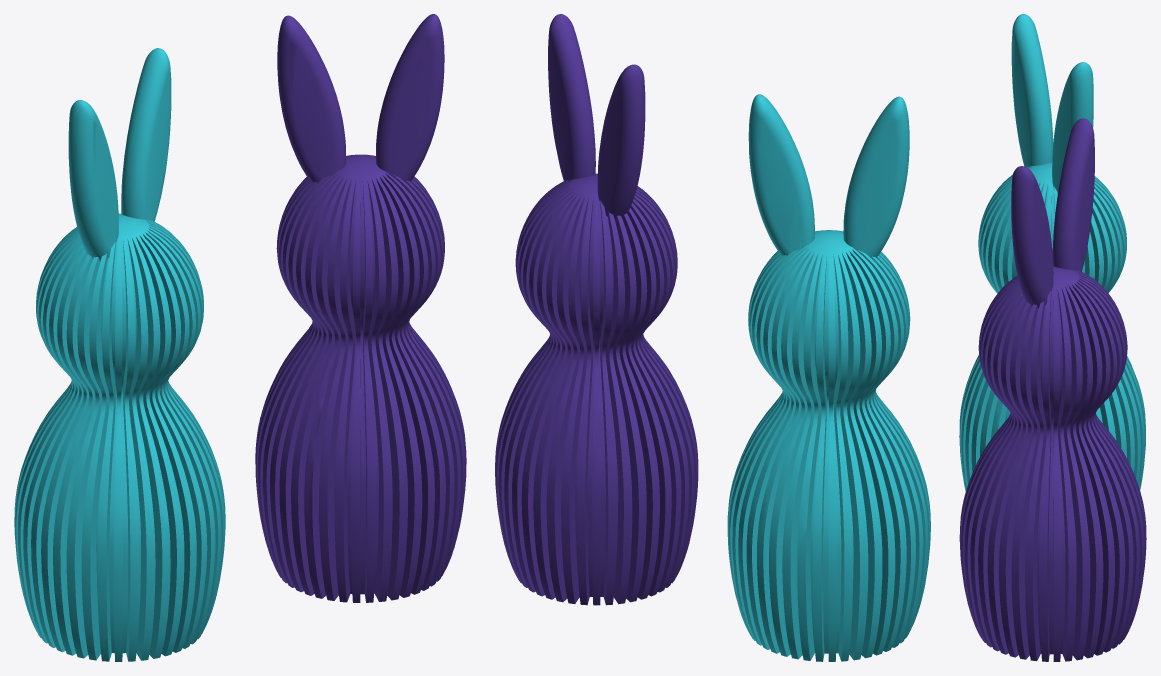
Rendered from bunnyes_Optimized.glb.
3 views of the same model, side by side, from view 1: azimuth 30°, elevation 25°; view 2: azimuth 150°, elevation 25°; view 3: azimuth 270°, elevation 25° (orthographic). The views are drawn at different scales.
Parts seen in each view (by area): view 1: Bunny, Bunny001; view 2: Bunny001, Bunny; view 3: Bunny, Bunny001.
Boxes of the visible parts, x1=… form: Bunny: x1=255, y1=14, x2=466, y2=602; Bunny001: x1=14, y1=48, x2=225, y2=661; Bunny001: x1=727, y1=94, x2=930, y2=661; Bunny: x1=495, y1=14, x2=698, y2=605; Bunny: x1=959, y1=118, x2=1146, y2=661; Bunny001: x1=959, y1=14, x2=1145, y2=491.
Size of the model in its own units: 0.1137 by 0.1414 by 0.0491.
